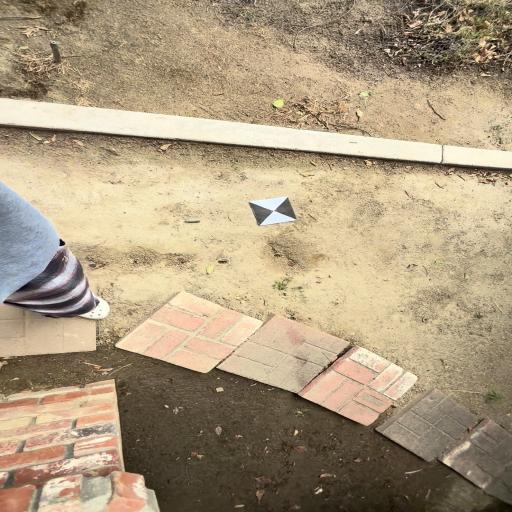target: (249, 196, 298, 226)
